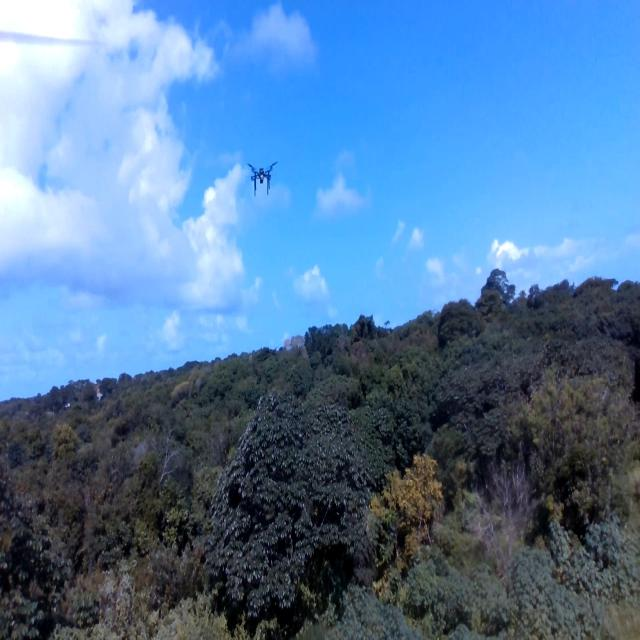-uav-: (237, 154, 285, 209)
